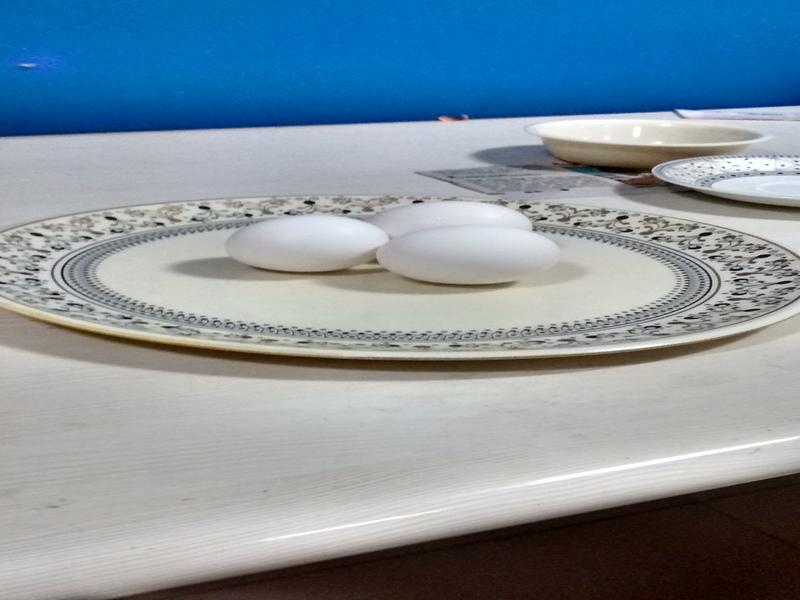egg: (375, 224, 564, 287)
